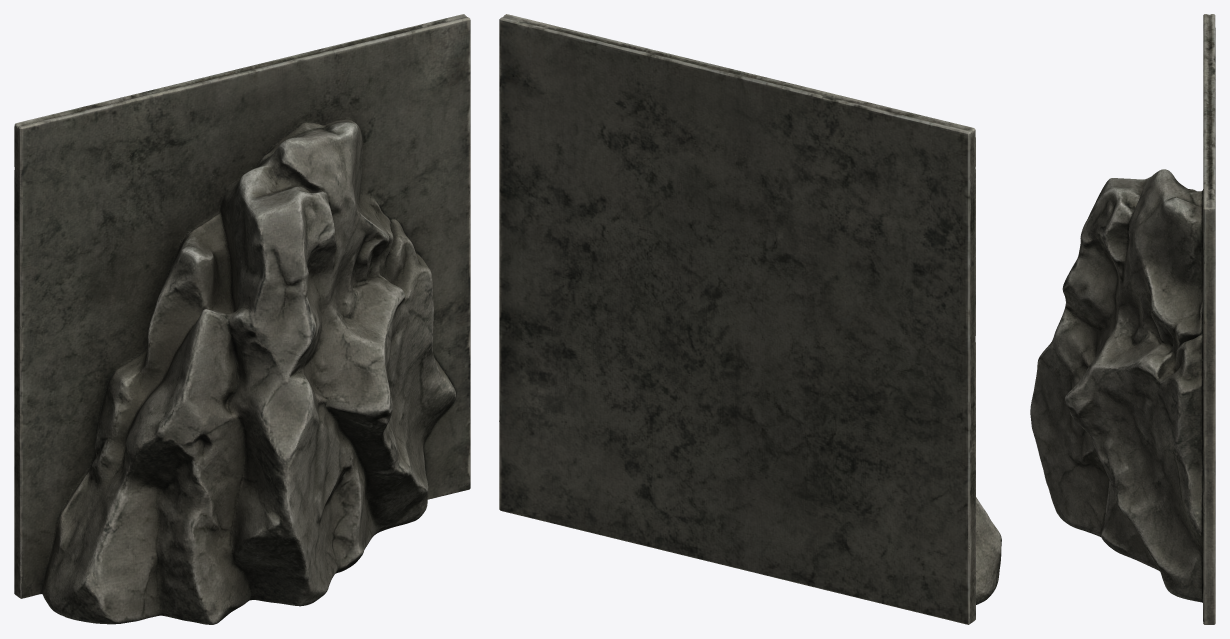
Rendered from large_swamp_rock.obj.
3 renders of one model, left to right at view 1: azimuth 30°, elevation 25°; view 2: azimuth 150°, elevation 25°; view 3: azimuth 270°, elevation 25°, orthographic. The views are drawn at different scales.
Visible parts, largest first — view 1: geometry_0; view 2: geometry_0; view 3: geometry_0.
Boxes of the visible parts, <box> form: geometry_0: <box>14,14,470,624</box>; geometry_0: <box>499,14,1001,624</box>; geometry_0: <box>1030,14,1215,624</box>.
Bounding box in the file's own units: 1 × 0.9998 × 0.4022.
1 material, 1 textured.
